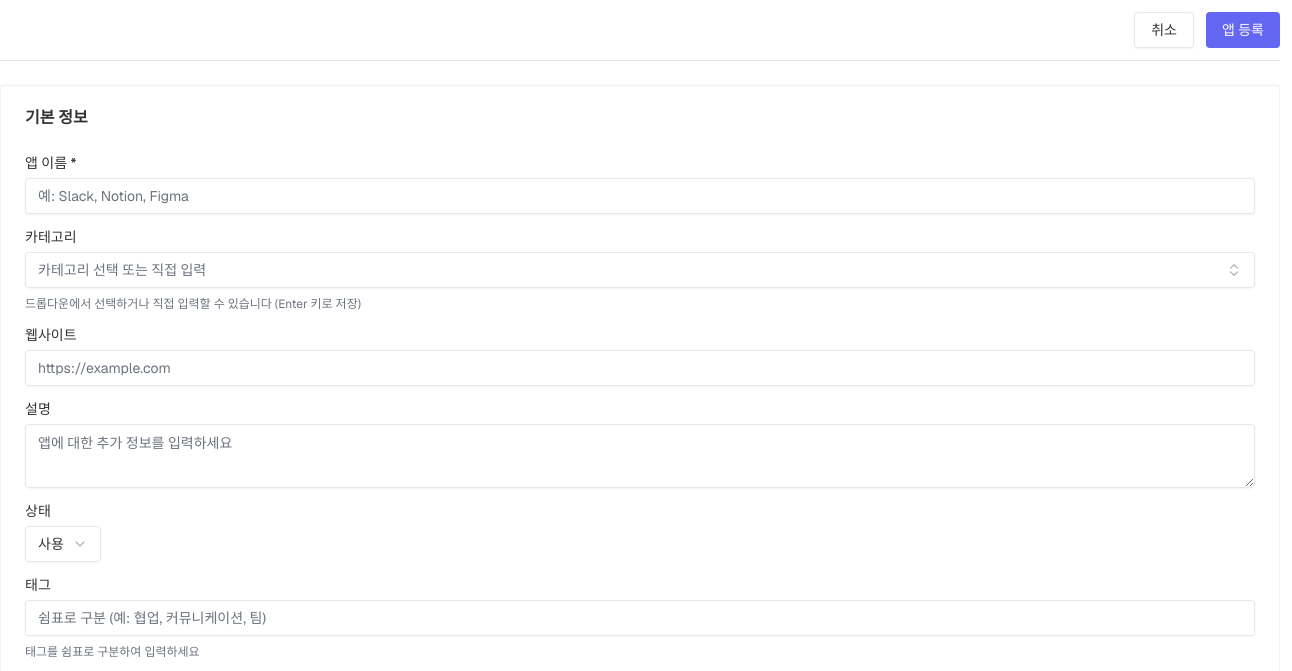
AppForm › 서버 에러 발생 시 에러 메시지를 표시해야 한다
The image size is (1292, 671).
Type "Existing App" into the field labelled "앱 이름 *" at (640, 196), box [25,178,1255,214]
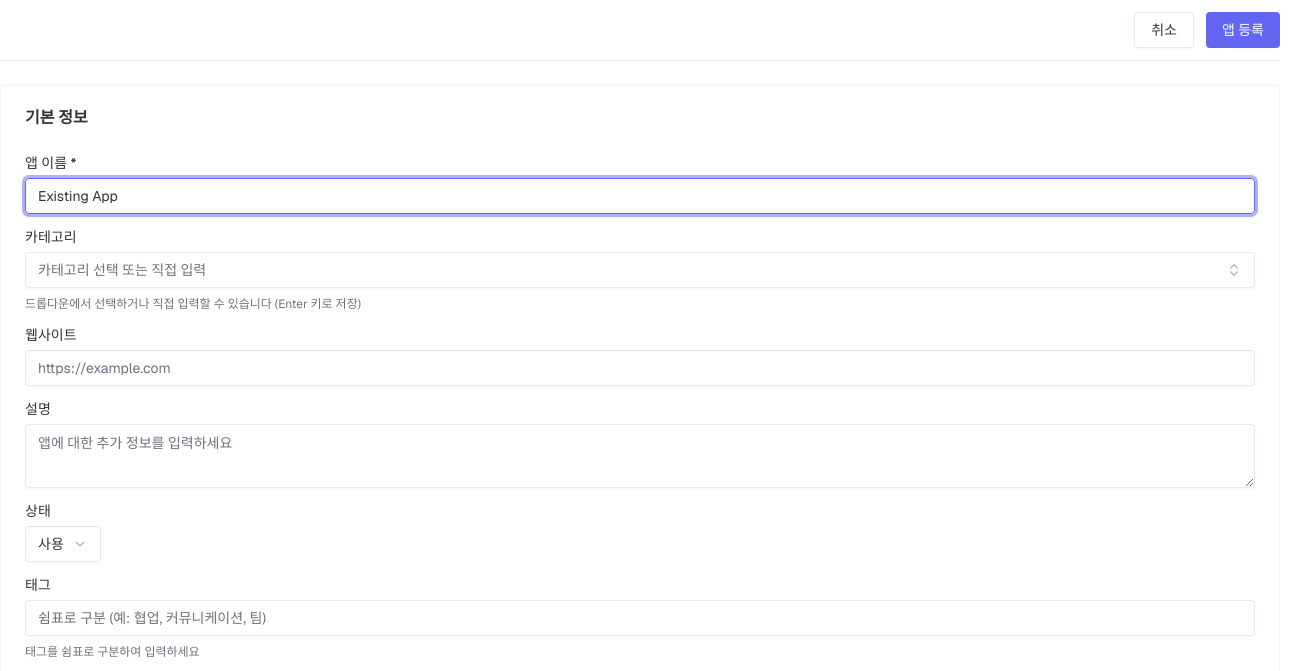
Click the button "앱 등록" at (1243, 30), box [1206,12,1280,48]
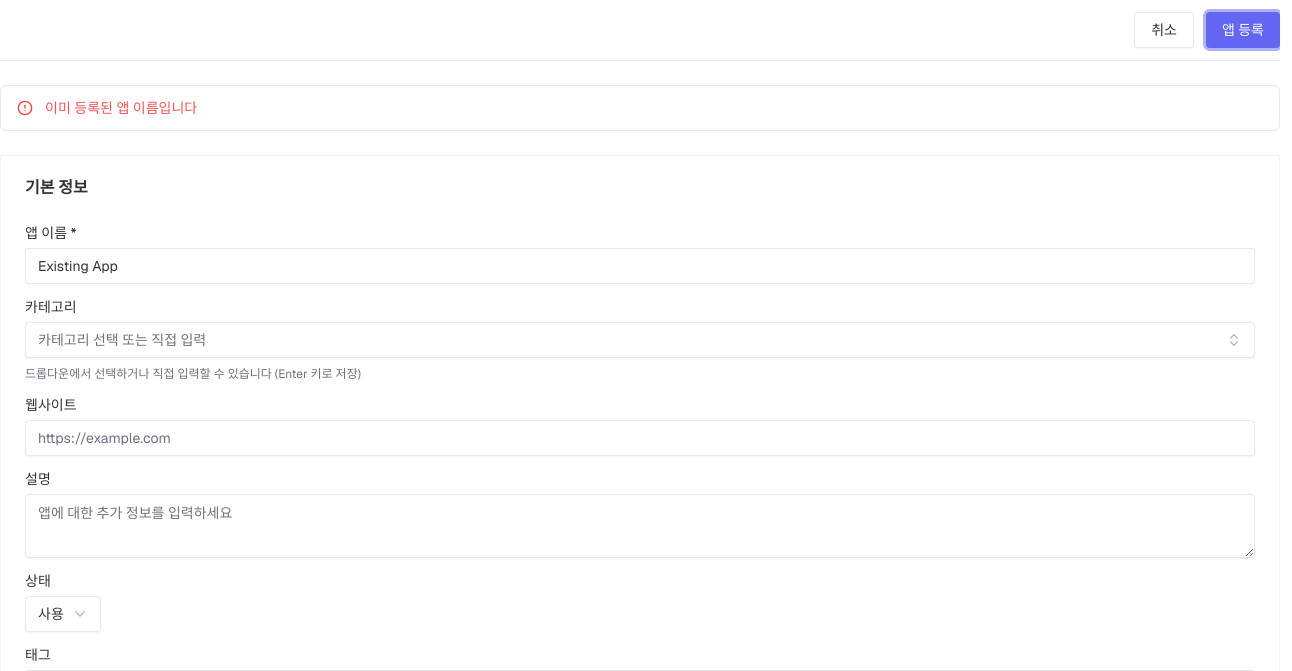
Expected: the text "이미 등록된 앱 이름입니다" is shown, [45,99,197,117]
